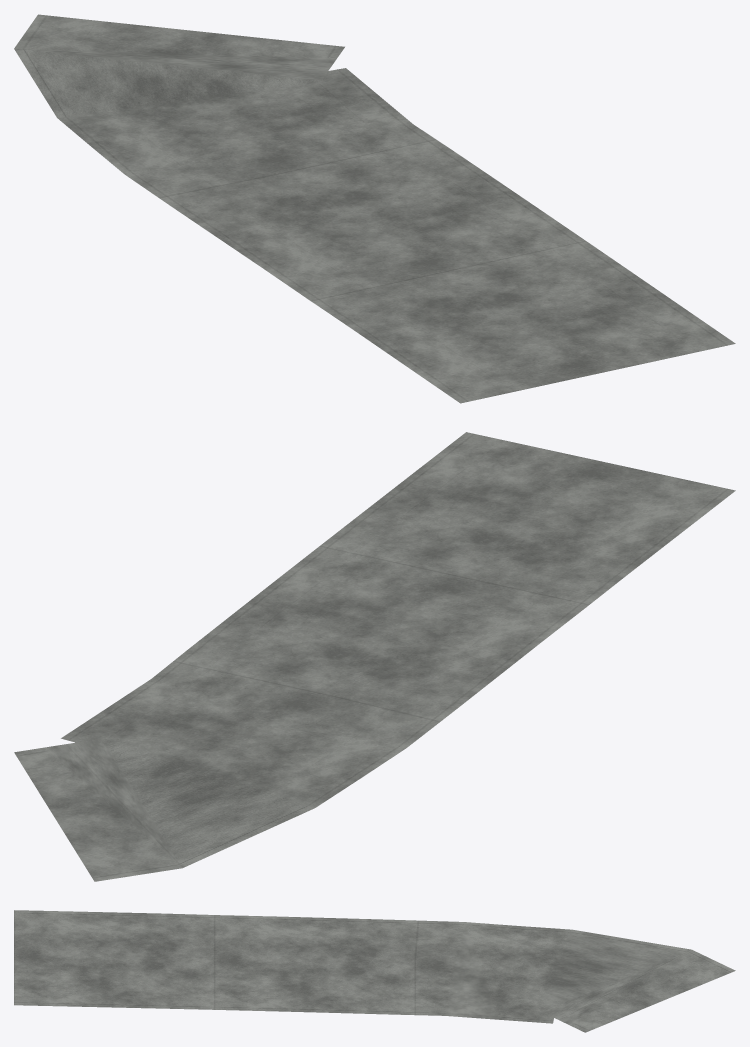
File: RD-ROAD-007.obj
The picture shows the model from 3 angles, top to bottom: view 1: azimuth 30°, elevation 25°; view 2: azimuth 150°, elevation 25°; view 3: azimuth 270°, elevation 25°; orthographic projection. The views are drawn at different scales.
Visible parts, largest first — view 1: RD-ROAD-007; view 2: RD-ROAD-007; view 3: RD-ROAD-007.
Boxes of the visible parts, bbox=[...] form: RD-ROAD-007: bbox=[14, 14, 735, 403]; RD-ROAD-007: bbox=[14, 432, 735, 881]; RD-ROAD-007: bbox=[14, 910, 735, 1032].
Bounding box in the file's own units: 4.8 × 0.4967 × 14.39.
1 material, 1 textured.
